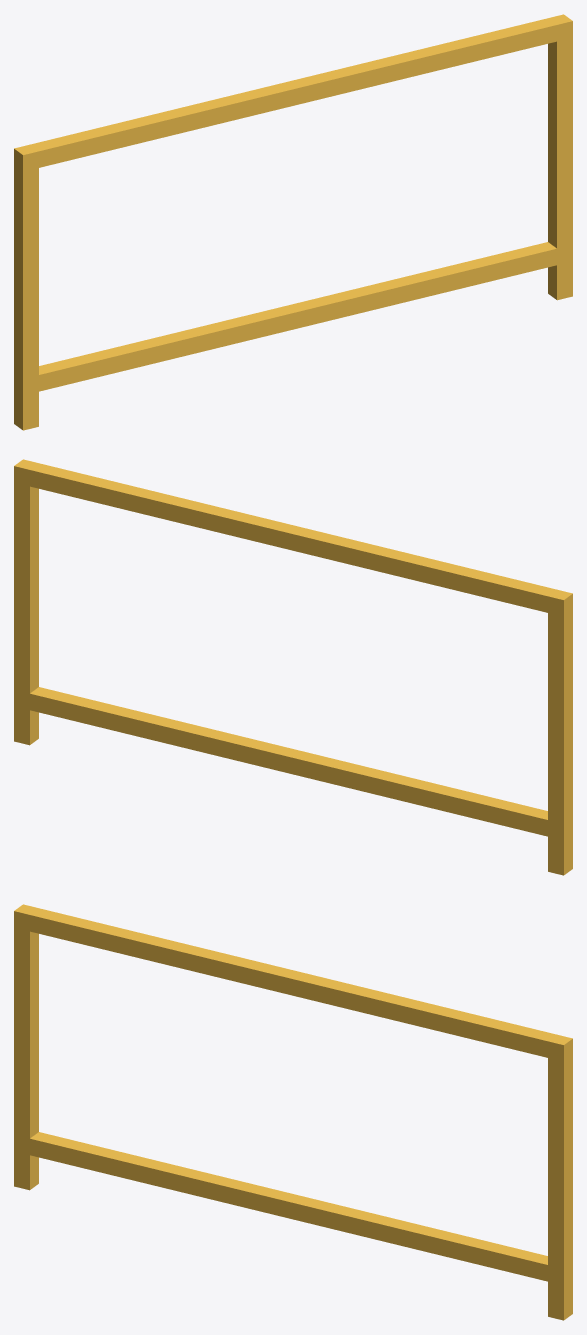
Rendered from Electric thing (Fence).fbx.
3 renders of one model, top to bottom at view 1: azimuth 30°, elevation 25°; view 2: azimuth 150°, elevation 25°; view 3: azimuth 330°, elevation 25°, orthographic.
Visible parts, largest first — view 1: Electric thing (Fence); view 2: Electric thing (Fence); view 3: Electric thing (Fence).
Boxes of the visible parts, left/top/right/bottom form: Electric thing (Fence): left=14, top=14, right=572, bottom=430; Electric thing (Fence): left=14, top=459, right=572, bottom=875; Electric thing (Fence): left=14, top=904, right=572, bottom=1320.
Size of the model in its own units: 579 by 277 by 16.7.
